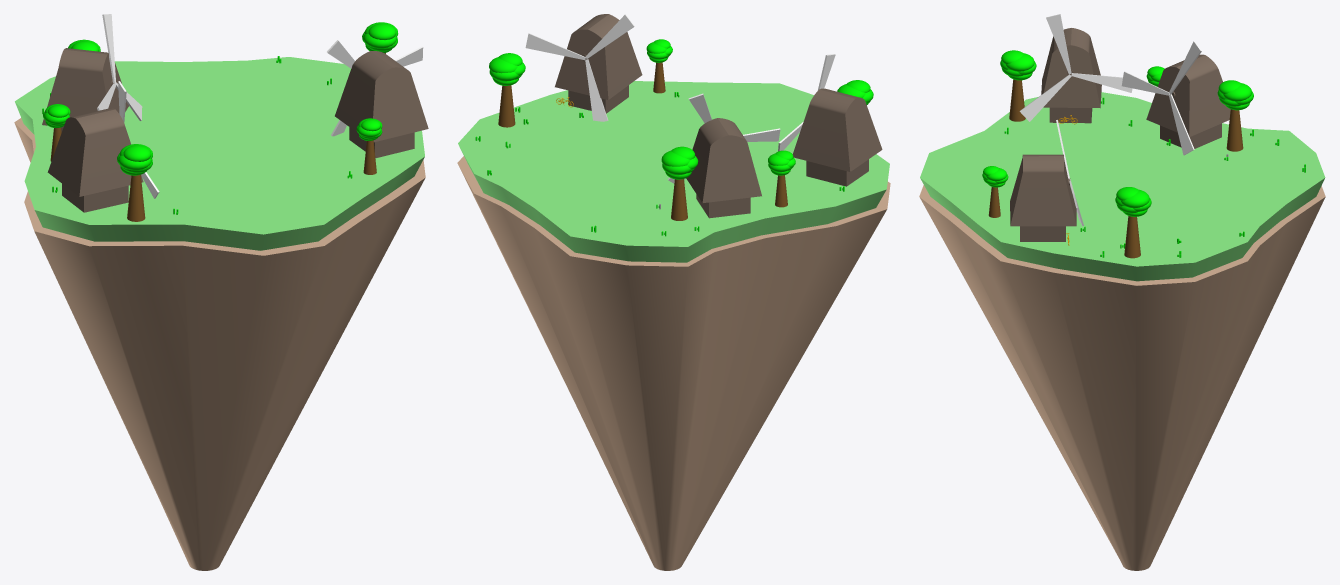
Rendered from gamejamisland.fbx.
3 renders of one model, left to right at view 1: azimuth 30°, elevation 25°; view 2: azimuth 150°, elevation 25°; view 3: azimuth 270°, elevation 25°, orthographic. The views are drawn at different scales.
Parts seen in each view (by area): view 1: bottom_of_island1, pasted__pCylinder1, house_1_group, pasted__pasted__pCylinder3, pasted__pCylinder3, pasted__pasted__pCube2, pasted__pasted__pasted__pCube2, pasted__pCylinder8; view 2: bottom_of_island1, pasted__pCylinder1, house_1_group, pasted__pCylinder3, pasted__pasted__pCylinder3, pasted__pasted__pasted__pCube2, pasted__pasted__pCube2, pCylinder8, pasted__pCylinder8, pasted__pCube2; view 3: bottom_of_island1, pasted__pCylinder1, pasted__pasted__pCylinder3, pasted__pCylinder3, house_1_group, pasted__pCube2, pasted__pasted__pCube2, pasted__pCylinder8 (×2), pCylinder8.
Part boxes in pixels (box(x1,y1,x2,y2)): bottom_of_island1: box(14, 118, 425, 570); pasted__pCylinder1: box(15, 57, 424, 250); house_1_group: box(47, 108, 143, 212); pasted__pasted__pCylinder3: box(335, 51, 428, 158); pasted__pCylinder3: box(42, 48, 128, 131); pasted__pasted__pCube2: box(97, 14, 142, 120); pasted__pasted__pasted__pCube2: box(327, 40, 423, 136); pasted__pCylinder8: box(127, 174, 145, 221); bottom_of_island1: box(457, 156, 890, 570); pasted__pCylinder1: box(458, 81, 889, 262); house_1_group: box(792, 88, 882, 186); pasted__pCylinder3: box(686, 118, 761, 218); pasted__pasted__pCylinder3: box(555, 14, 642, 113); pasted__pasted__pasted__pCube2: box(525, 14, 634, 121); pasted__pasted__pCube2: box(667, 93, 780, 183); pCylinder8: box(498, 85, 515, 127); pasted__pCylinder8: box(671, 179, 687, 220); pasted__pCube2: box(778, 54, 835, 151); bottom_of_island1: box(919, 185, 1325, 570); pasted__pCylinder1: box(920, 92, 1325, 281); pasted__pasted__pCylinder3: box(1010, 154, 1076, 241); pasted__pCylinder3: box(1146, 54, 1230, 148); house_1_group: box(1041, 28, 1101, 123); pasted__pCube2: box(1019, 14, 1132, 121); pasted__pasted__pCube2: box(1121, 41, 1201, 155); pasted__pCylinder8 (×2): box(1009, 79, 1243, 151); pCylinder8: box(1124, 216, 1140, 258).
Bounding box in the file's own units: 32.74 × 42.2 × 31.45.
